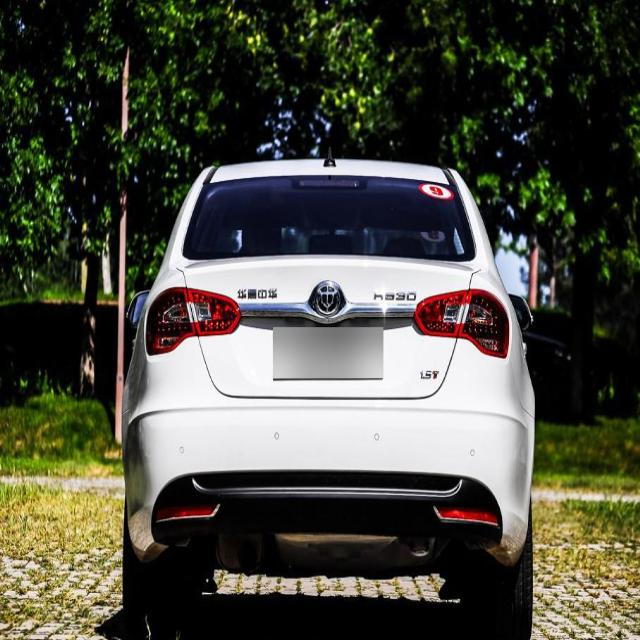back_glass: (183, 177, 477, 264)
back_left_side_light: (145, 287, 241, 356)
back_right_side_light: (414, 286, 510, 359)
front_left_side_mirror: (126, 288, 148, 325)
front_right_side_mirror: (506, 290, 534, 332)
rear_bumper: (125, 407, 531, 562)
